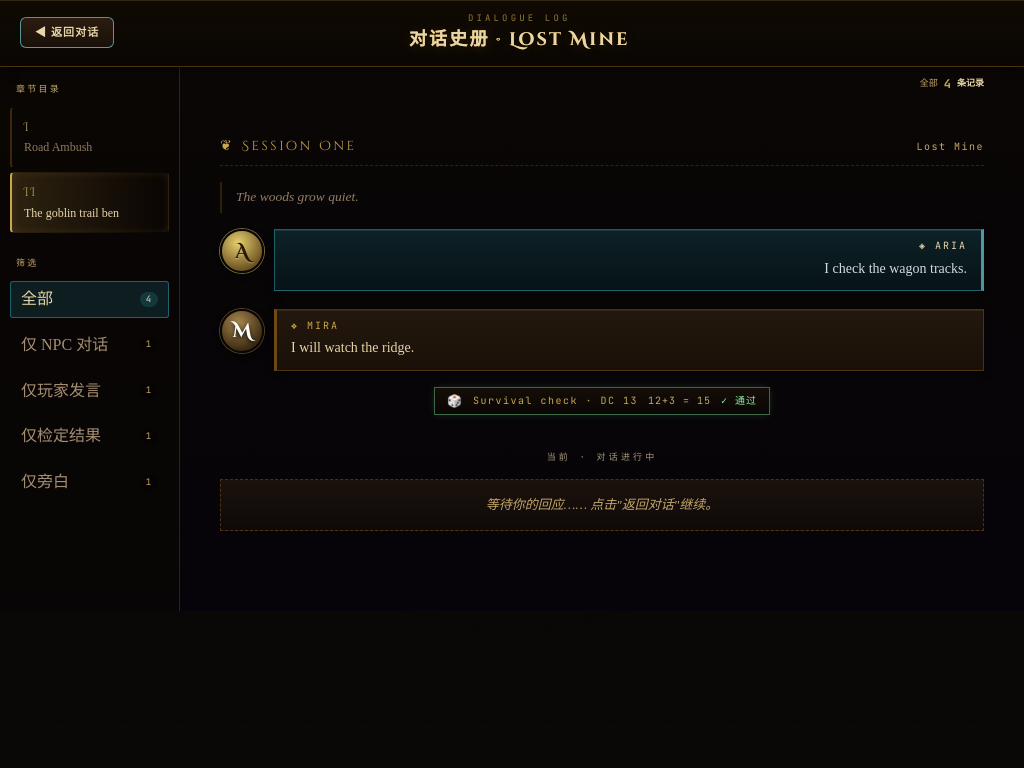
DialogueHistoryView › updates the live count and empty state when filters change
The width and height of the screenshot is (1024, 768).
What coordinates should you click on to do the following:
click the button "仅检定结果 1"
I would click on:
 (90, 437)
Its box is [10,418,169,455].
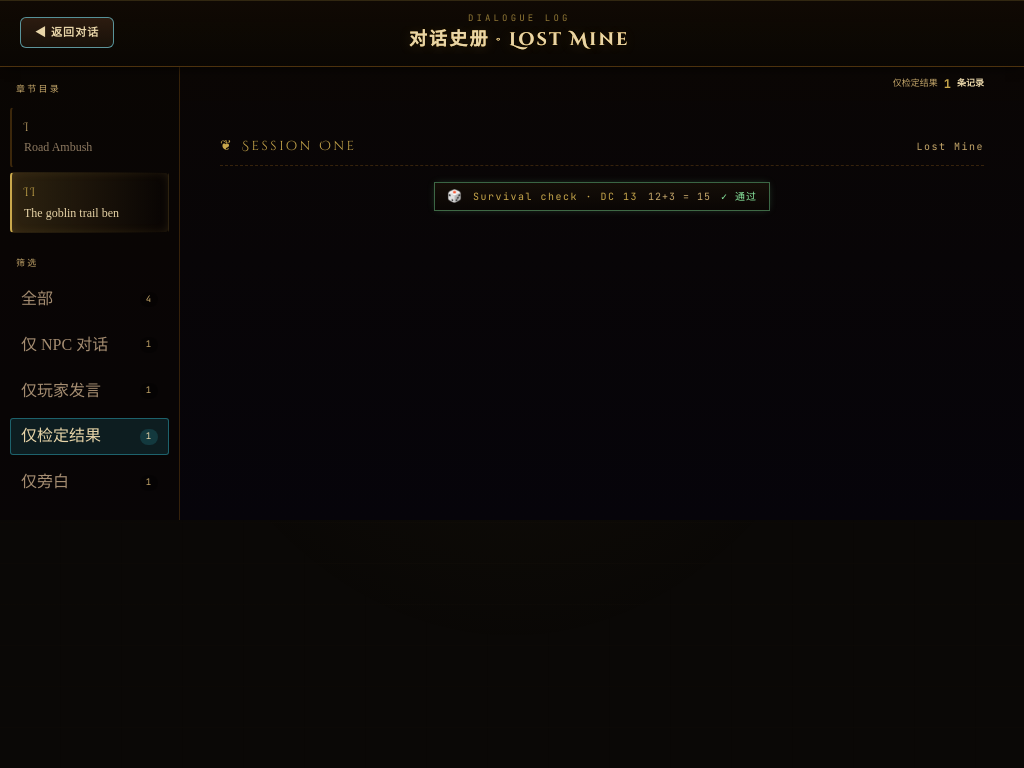
Expected: the message shows "仅检定结果", [893,77,938,89]
Expected: the message shows "1", [944,76,951,92]
Expected: the text "The woods grow quiet." is gone
What coordinates should you click on to do the following:
click the button "仅玩家发言 1"
I would click on:
 (90, 391)
Its box is [10,373,169,410].
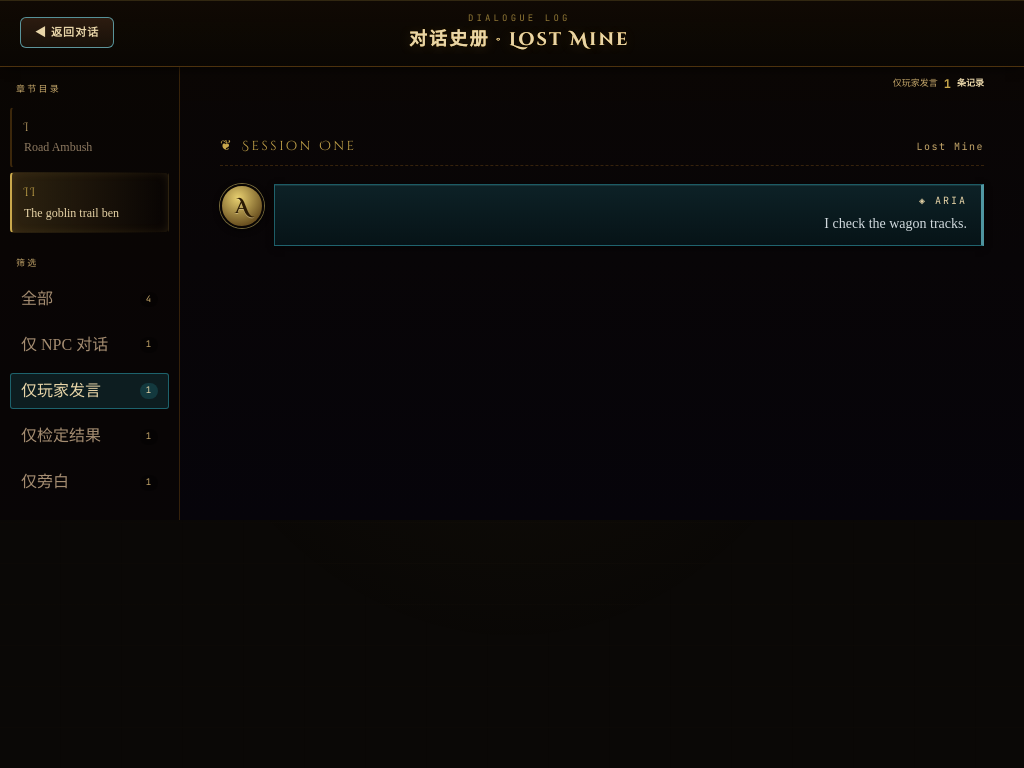
Expected: the message shows "仅玩家发言", [893,77,938,89]
Expected: the text "I check the wagon tracks." is shown, [824,216,967,231]
